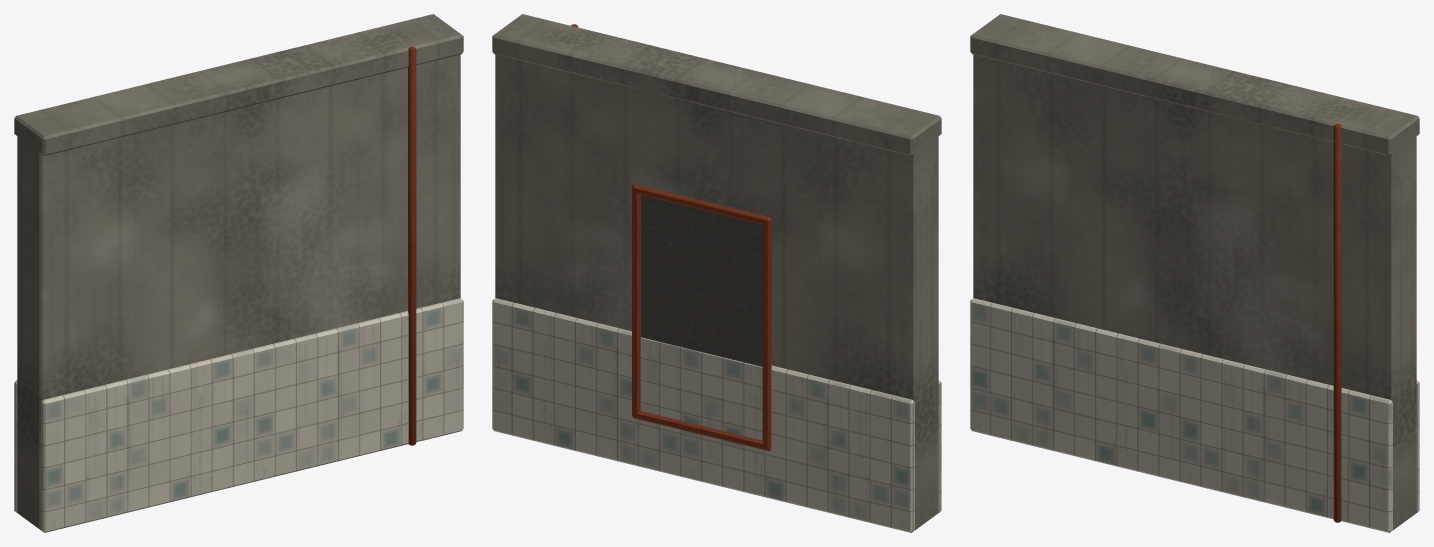
File: WK_WALL_STANDARD_B_01.glb
3 renders of one model, left to right at view 1: azimuth 30°, elevation 25°; view 2: azimuth 150°, elevation 25°; view 3: azimuth 330°, elevation 25°, orthographic.
Visible parts, largest first — view 1: WK_WALL_STANDARD_B_01; view 2: WK_WALL_STANDARD_B_01; view 3: WK_WALL_STANDARD_B_01.
Part boxes in pixels (x1,y1,x2,y2): WK_WALL_STANDARD_B_01: (14, 14, 463, 532); WK_WALL_STANDARD_B_01: (492, 14, 941, 532); WK_WALL_STANDARD_B_01: (970, 14, 1419, 532).
Size of the model in its own units: 4 by 3.6 by 0.5567.
Materials: 4 (4 with a texture image).
